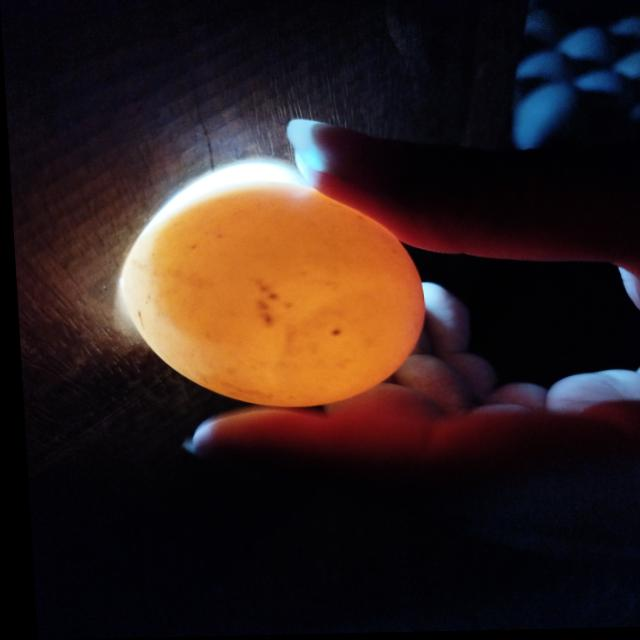Camara de Ar: (115, 182, 419, 408)
